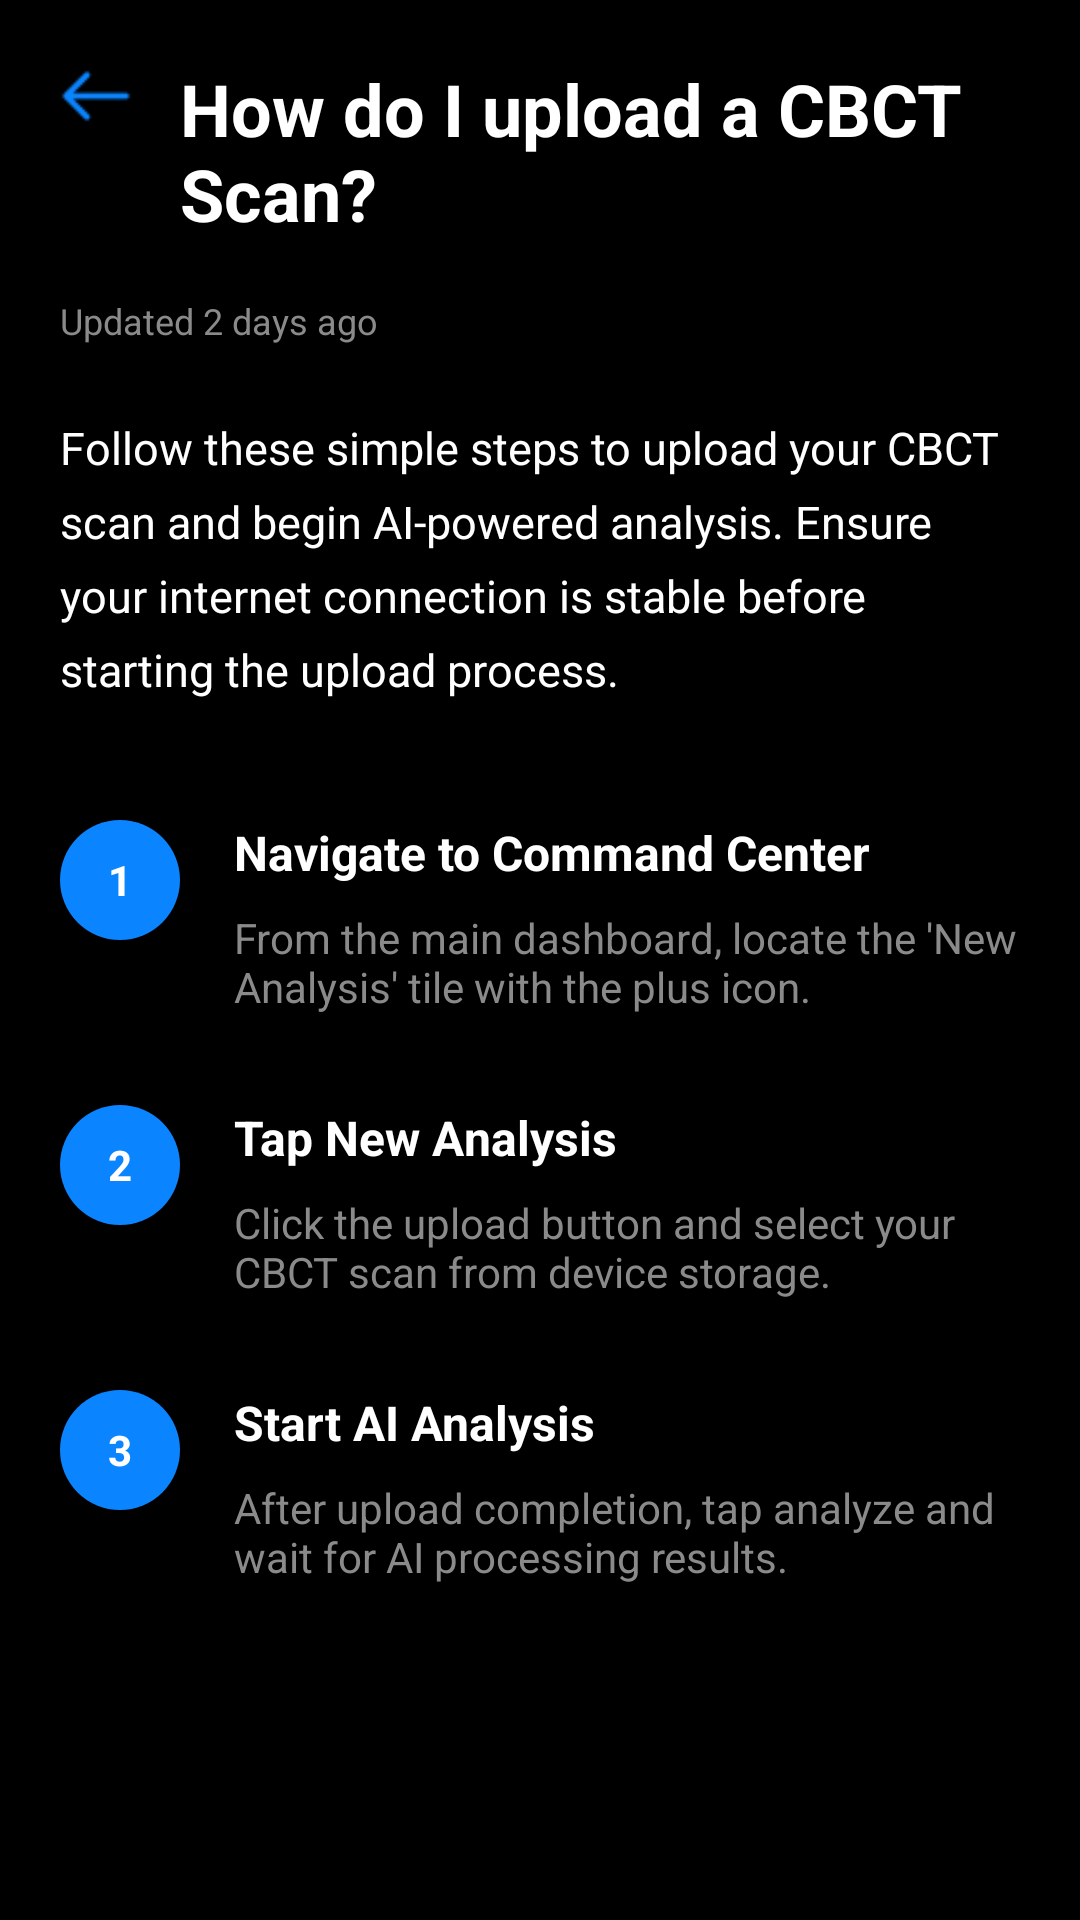

Screen size 1080w x 1920h. Icon name, then its center in pixels as (x,y):
back: (96,96)
